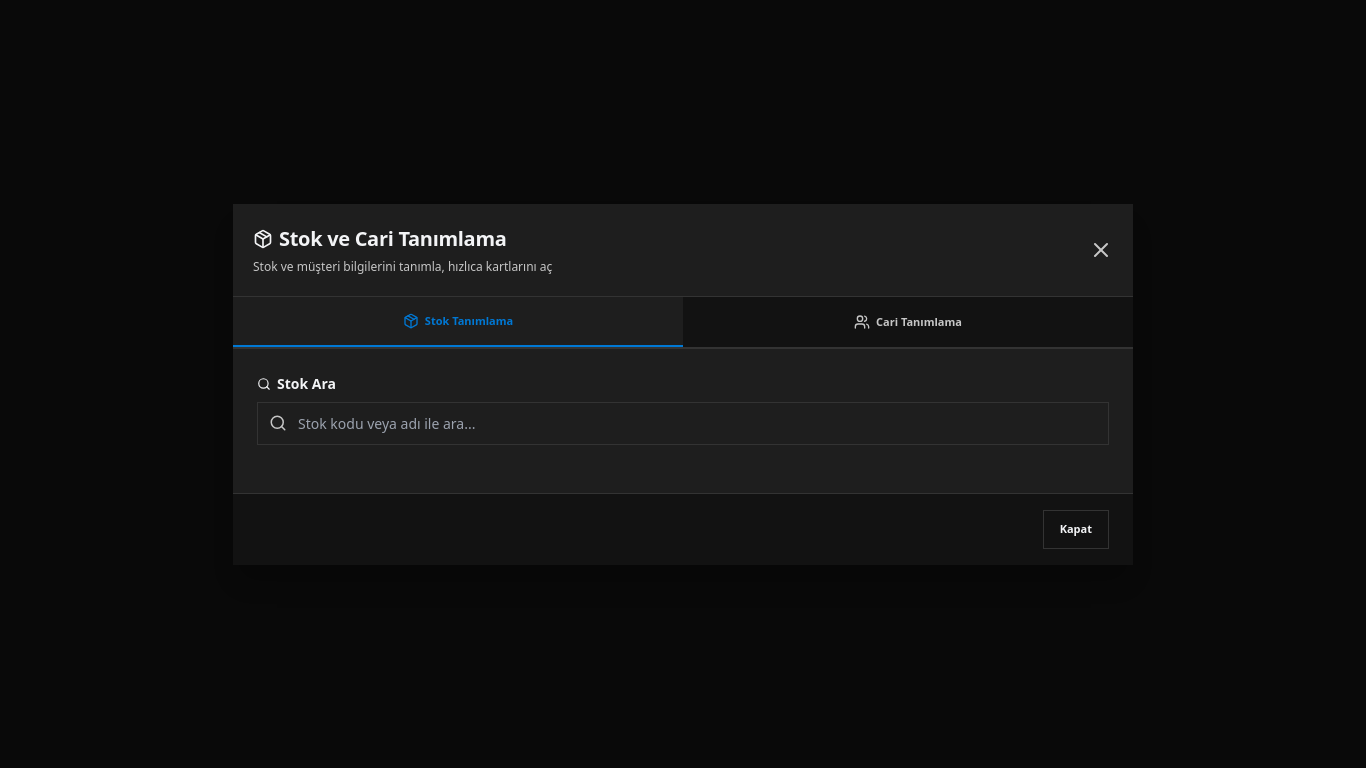
Test case: StockAndCustomerDefinitionModal - Real API Integration Tests › fetches stock data from real API on search
Type "MDF" into the field with placeholder "Stok kodu veya adı ile ara..." at (683, 424), box [257,402,1109,445]
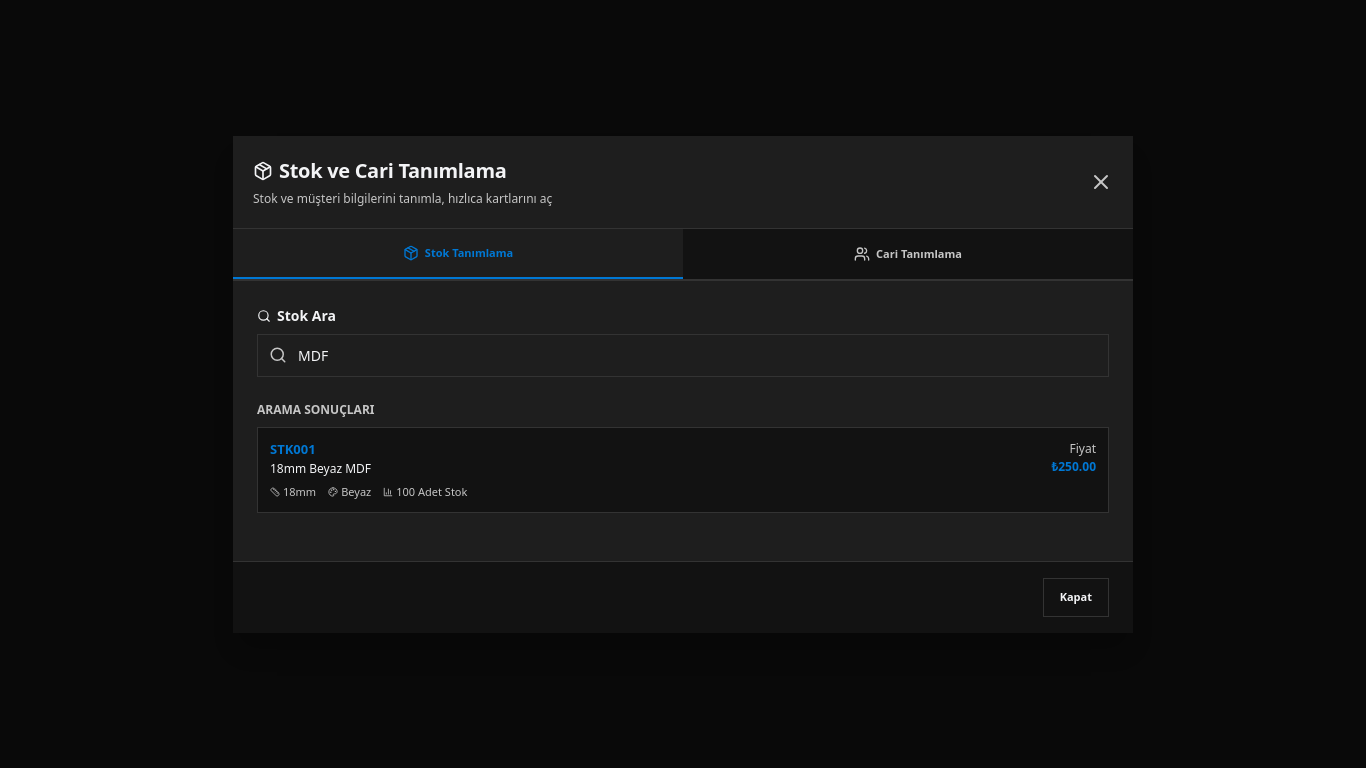
Check: the text "STK001" is shown, box [270,440,316,458]
Check: the text "18mm Beyaz MDF" is shown, box [270,460,371,478]
